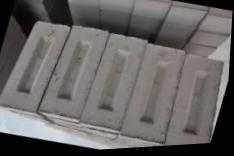brick: (119, 41, 190, 147), (37, 20, 108, 124), (78, 30, 147, 133), (0, 14, 69, 117), (158, 51, 230, 146), (164, 2, 206, 32), (187, 26, 230, 53), (196, 10, 233, 39), (156, 21, 193, 46), (130, 0, 170, 22), (127, 12, 162, 35), (65, 4, 100, 26), (97, 10, 130, 29), (96, 0, 134, 16), (60, 0, 101, 13)
